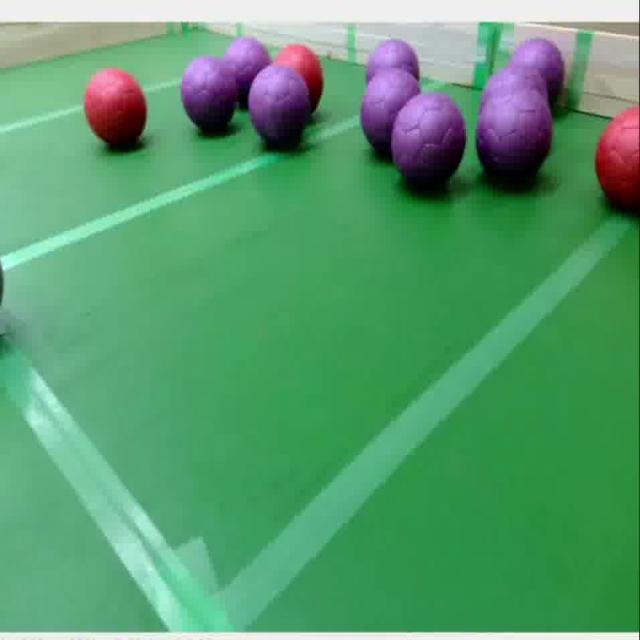purple_ball: (392, 94, 468, 190), (479, 90, 553, 186), (361, 70, 421, 152), (182, 56, 238, 134), (250, 80, 306, 153), (219, 38, 275, 106), (511, 36, 566, 102), (486, 66, 552, 108), (365, 38, 422, 82)
red_ball: (83, 66, 147, 147), (599, 109, 640, 218), (274, 41, 323, 69)
